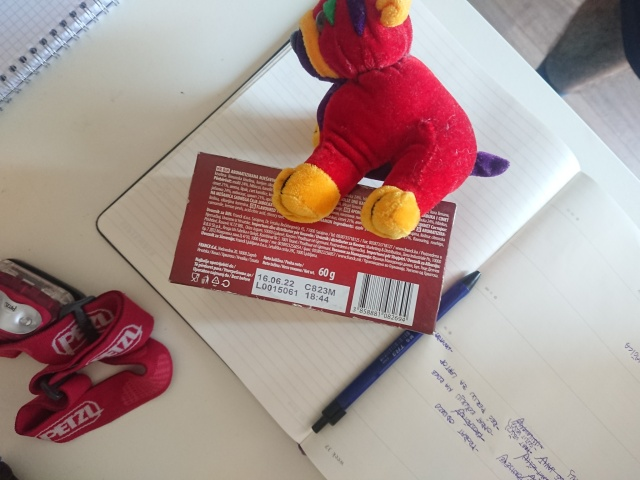Franck Apple Cinnamon Tea 60g: (165, 148, 458, 336)
